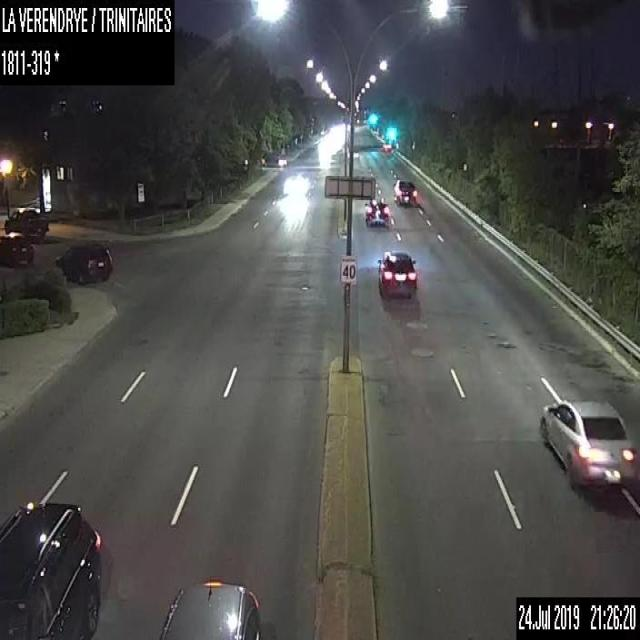vehicle: (0, 497, 104, 639), (539, 395, 639, 488), (158, 578, 263, 638), (55, 238, 112, 284), (376, 249, 416, 299), (0, 206, 48, 233), (0, 231, 35, 266), (364, 196, 388, 227), (392, 178, 417, 206), (284, 173, 308, 196), (382, 140, 391, 152)
